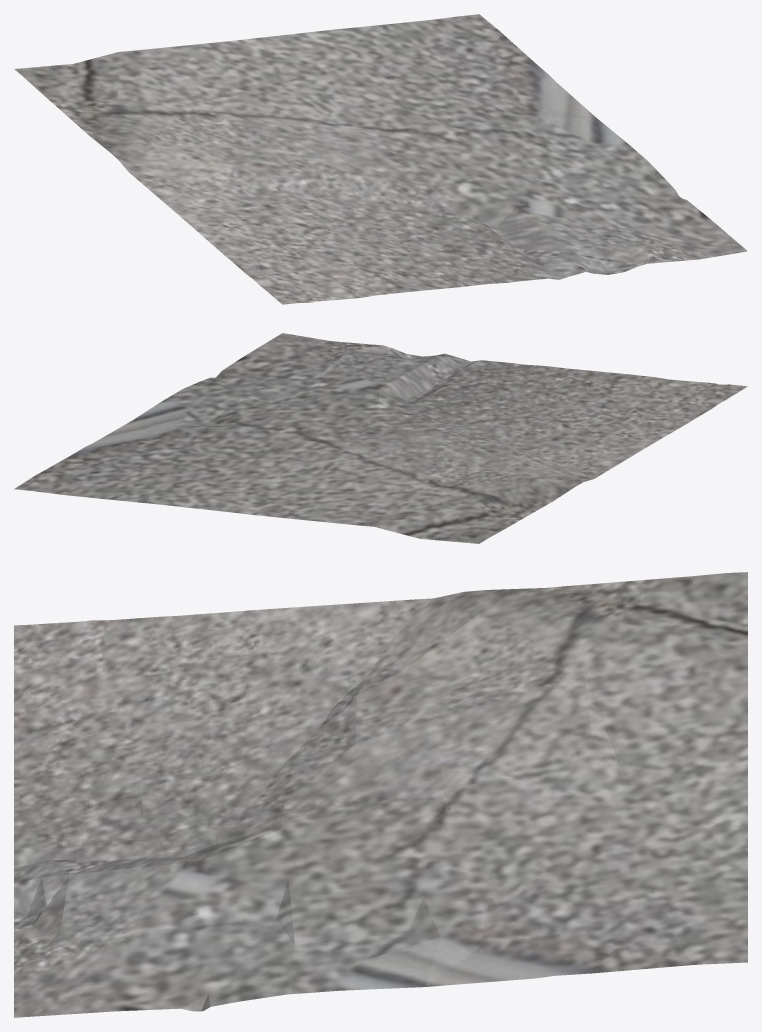
3 views of the same model, one above another, from view 1: azimuth 30°, elevation 25°; view 2: azimuth 150°, elevation 25°; view 3: azimuth 270°, elevation 25° (orthographic). The views are drawn at different scales.
Bounding box in the file's own units: 0.8374 × 0.1707 × 0.8374.
Materials: 3 (3 with a texture image).
